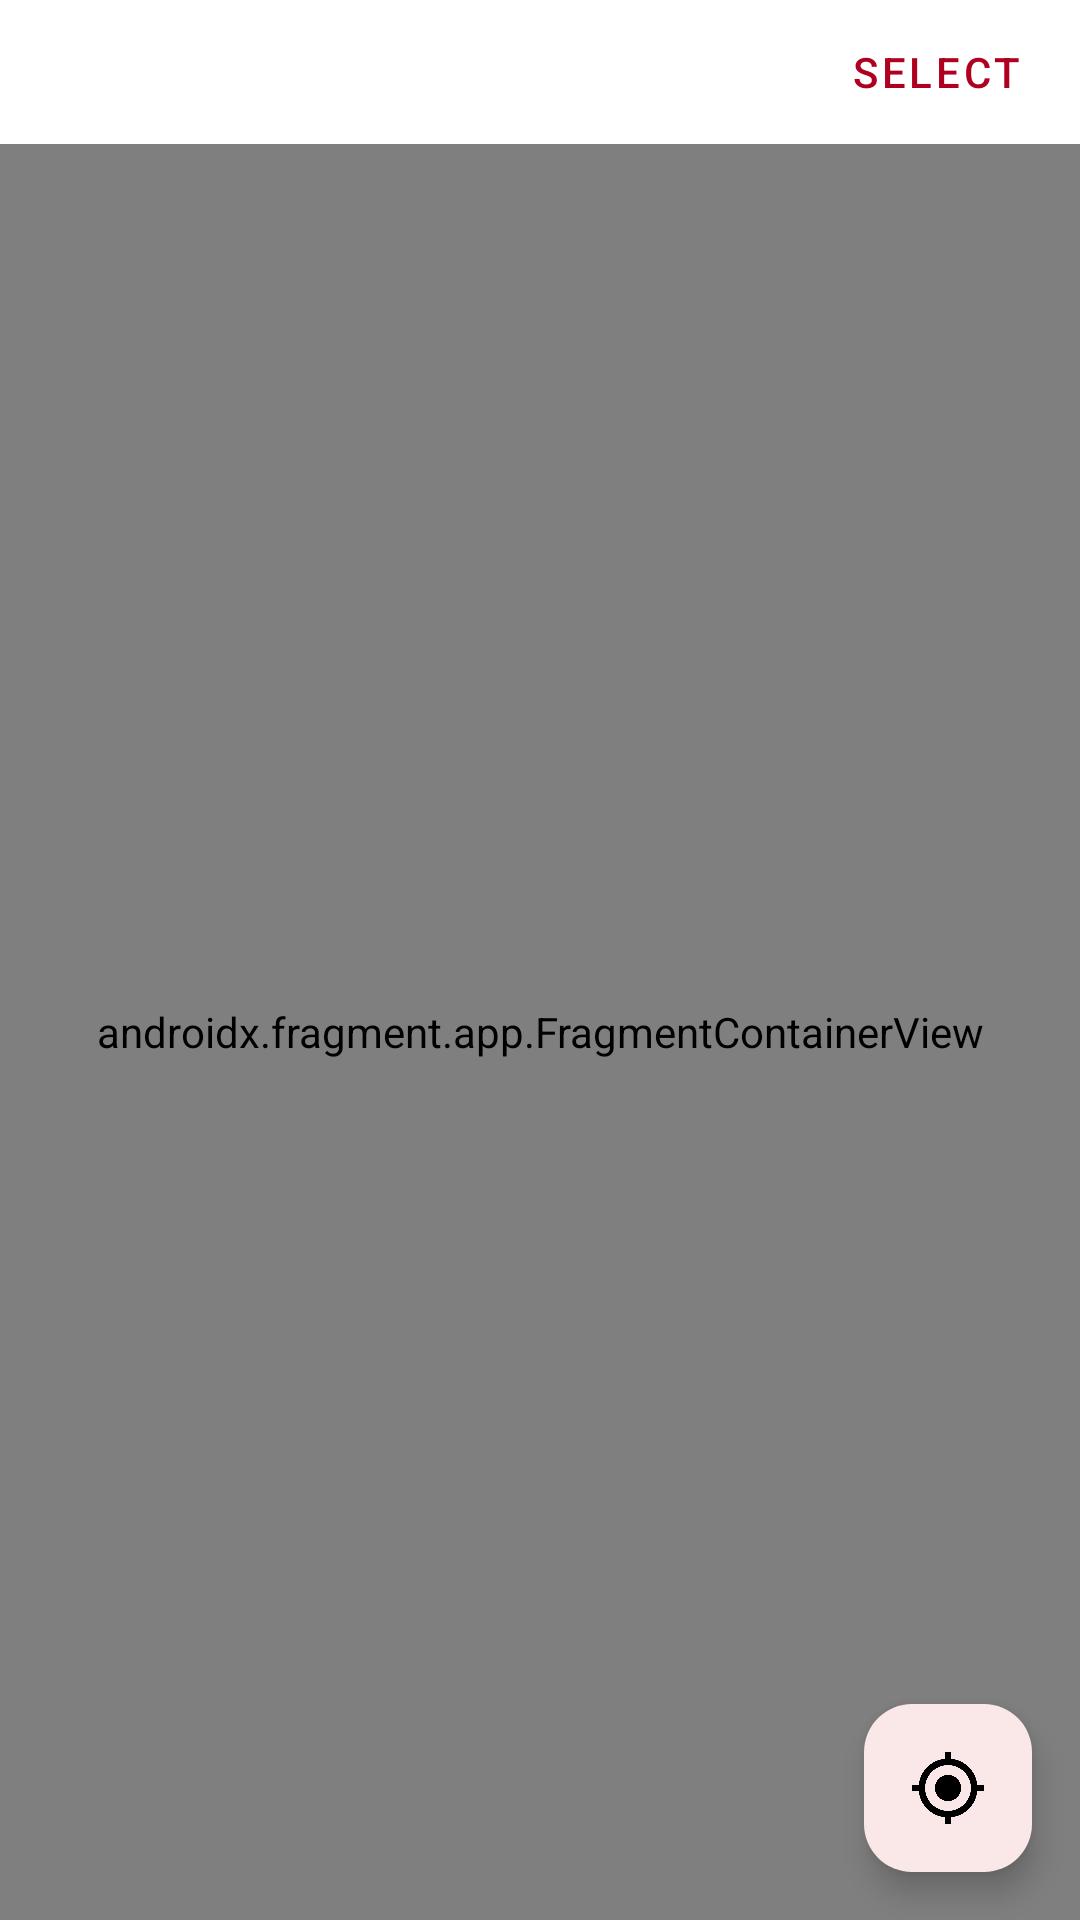

Screen size 1080 x 1920. Icon name, then its center in pixels as (x=x, y=y):
current location: (x=948, y=1788)
